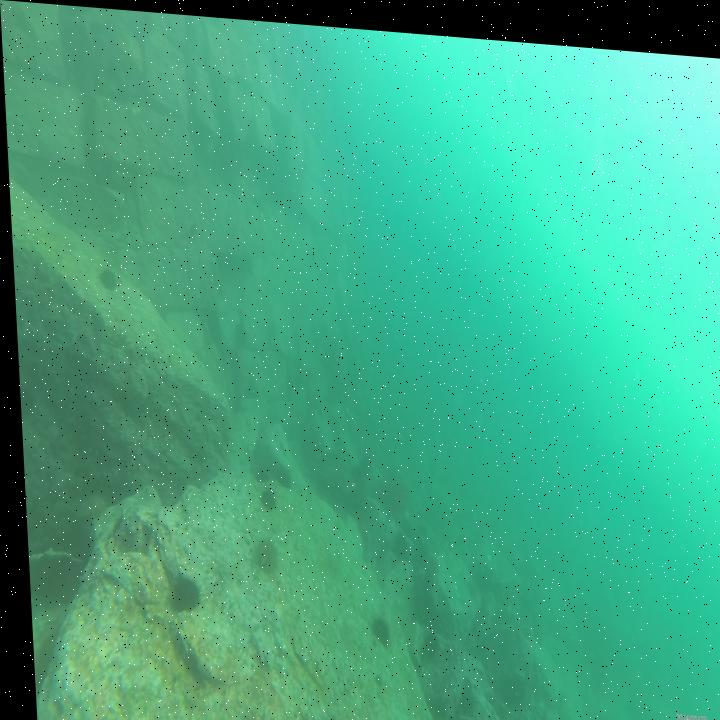echinus: (163, 568, 199, 612), (247, 531, 276, 576), (490, 667, 517, 703), (92, 259, 119, 294), (362, 604, 384, 646), (448, 664, 470, 705), (412, 620, 436, 654), (384, 519, 405, 557), (228, 314, 249, 347), (252, 481, 274, 511), (236, 374, 259, 401), (353, 444, 370, 472), (541, 707, 562, 720)
